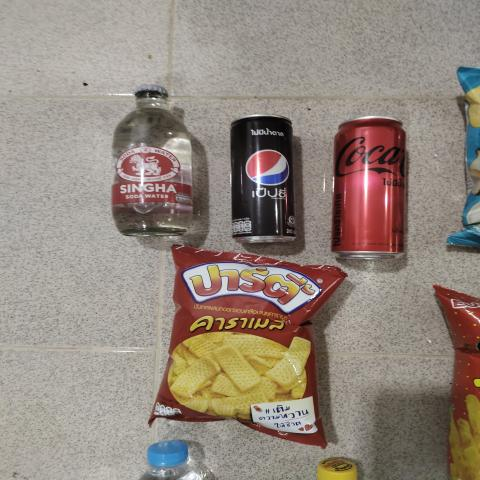coke_red: (329, 119, 403, 267)
party_red: (168, 254, 325, 430)
pepsi_black: (224, 114, 306, 248)
singha_soda: (111, 84, 195, 239)
